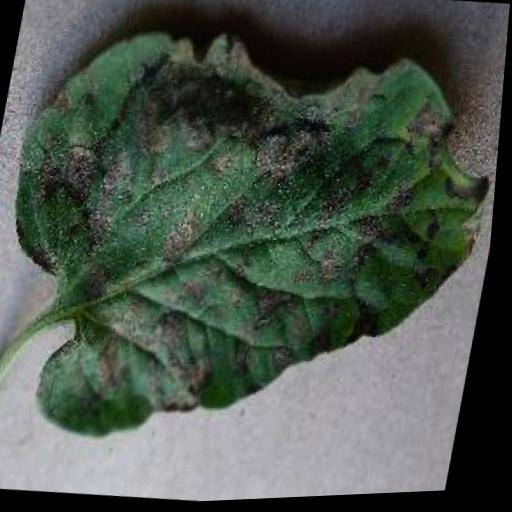Early Blight: (0, 4, 511, 484)
